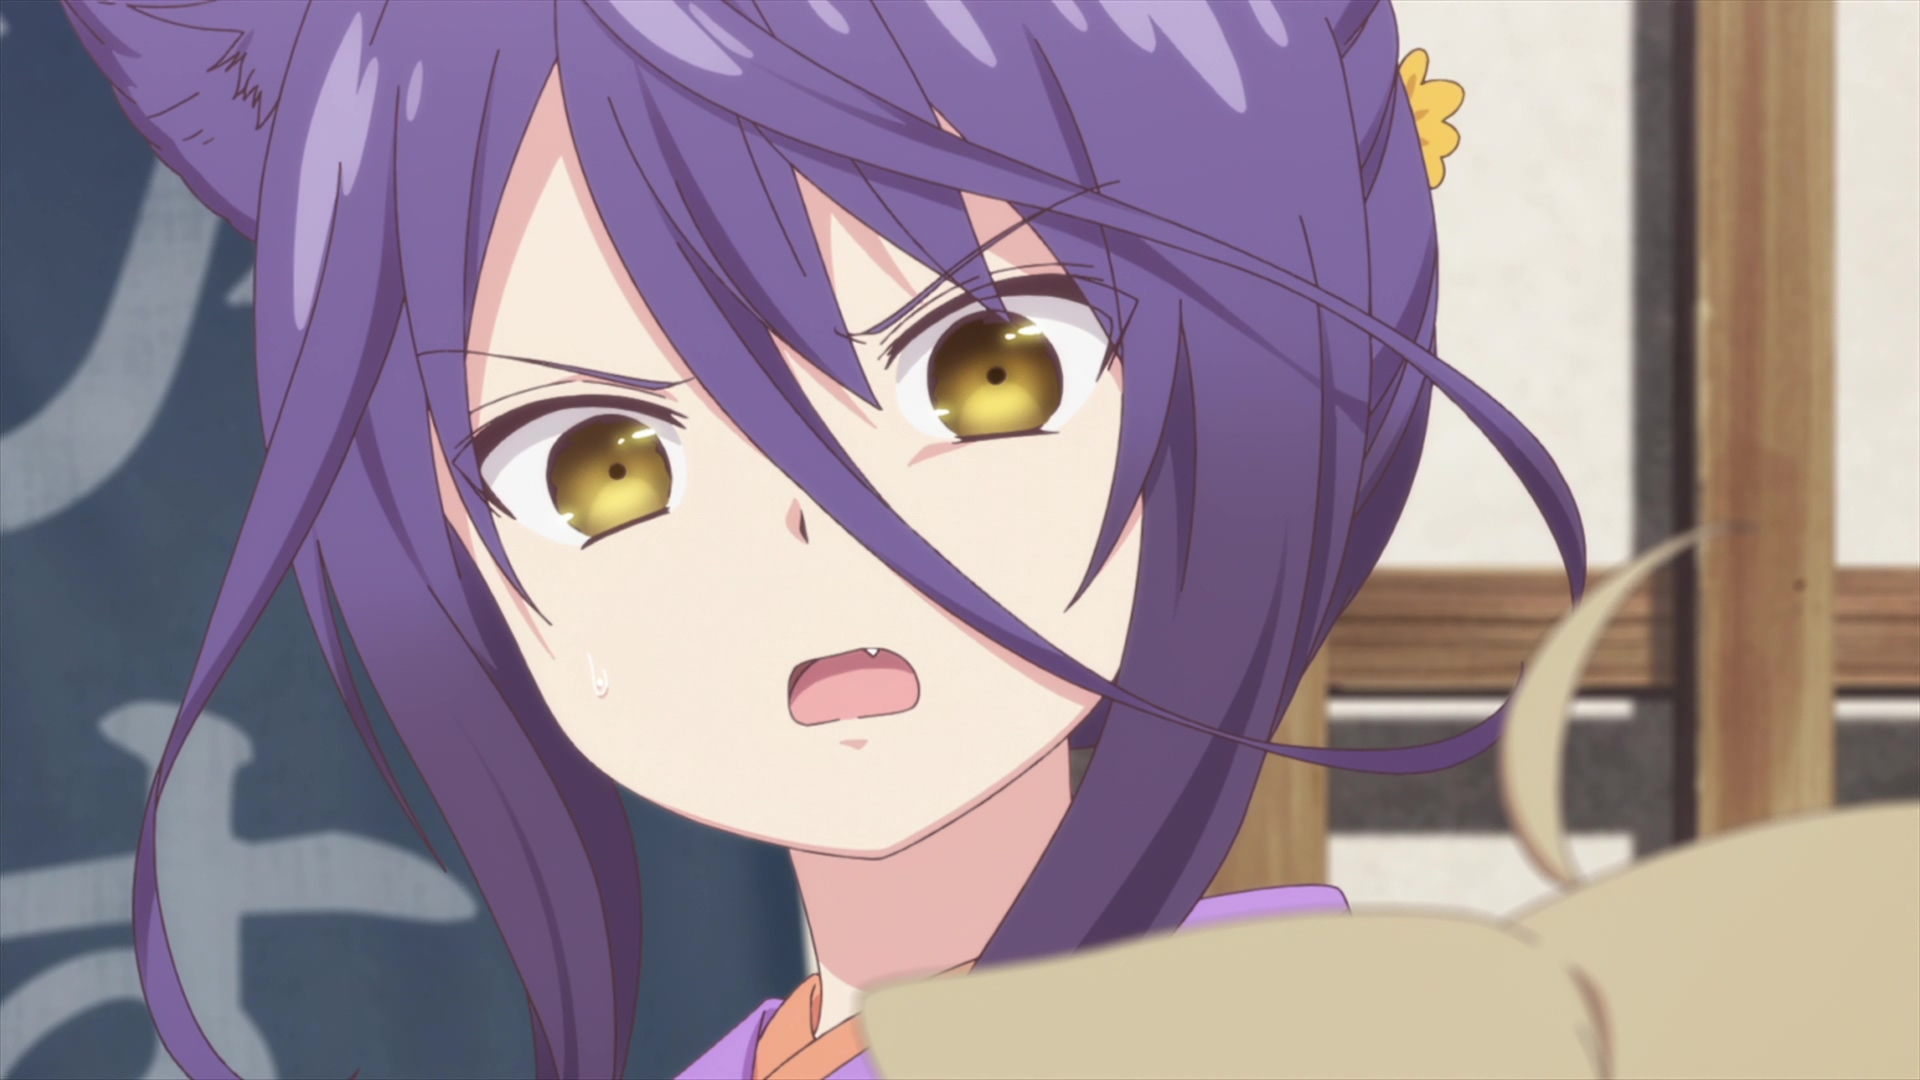皋: (65, 1, 1586, 1080)
